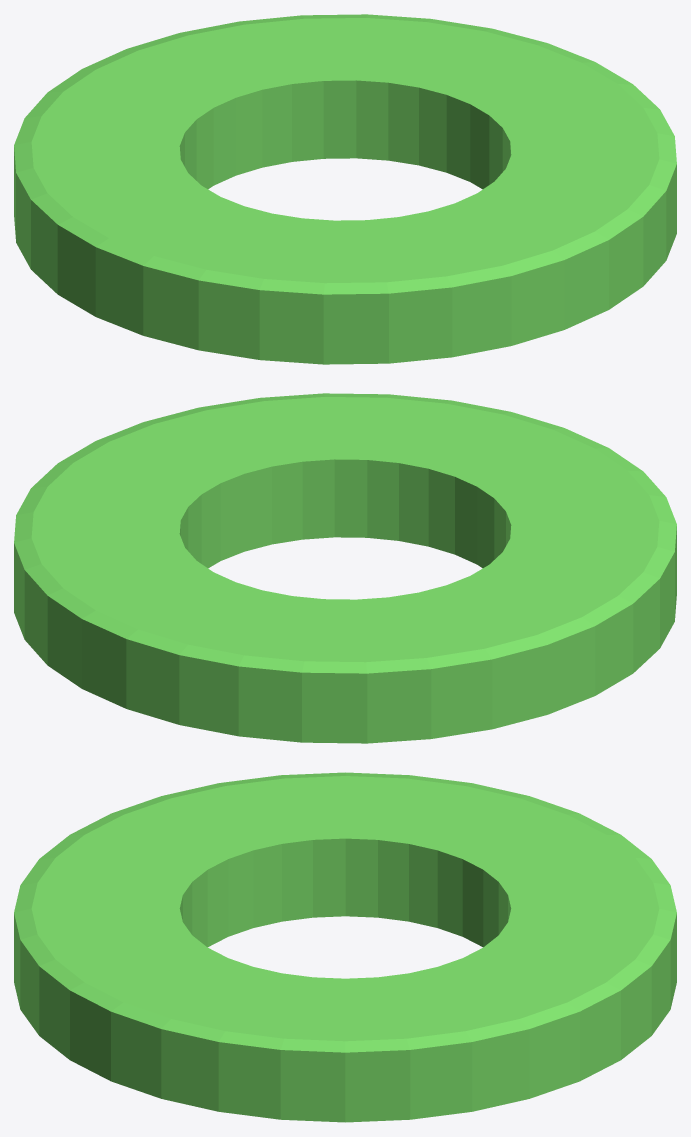
File: SM_CylinderWithAHole.fbx
The picture shows the model from 3 angles, top to bottom: view 1: azimuth 30°, elevation 25°; view 2: azimuth 150°, elevation 25°; view 3: azimuth 270°, elevation 25°; orthographic projection.
Parts seen in each view (by area): view 1: CylinderWithAHole; view 2: CylinderWithAHole; view 3: CylinderWithAHole.
Part boxes in pixels (x1,y1,x2,y2): CylinderWithAHole: [14, 14, 676, 364]; CylinderWithAHole: [14, 393, 676, 743]; CylinderWithAHole: [14, 772, 676, 1122].
Size of the model in its own units: 200 by 200 by 25.88.
